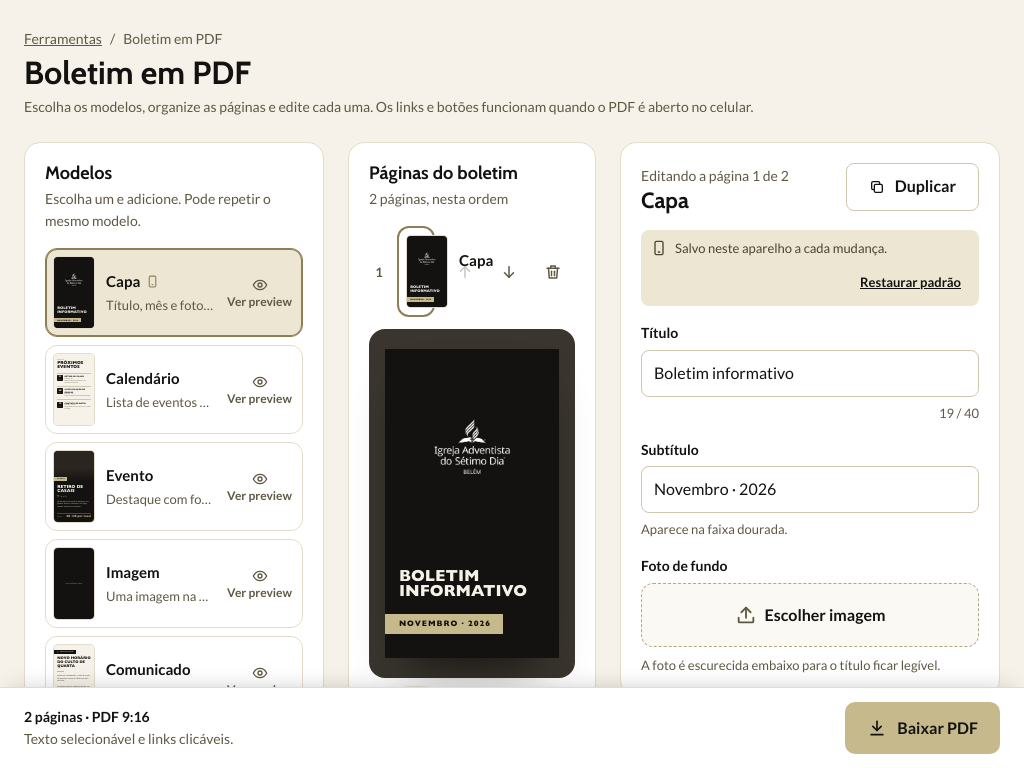
Test: BulletinEditor › shows a bigger preview of a model before adding it
The image size is (1024, 768).
Click the button with aria-label "Ver preview: Calendário" at point(260, 389), box top-left (221, 361), bottom-right (298, 417)
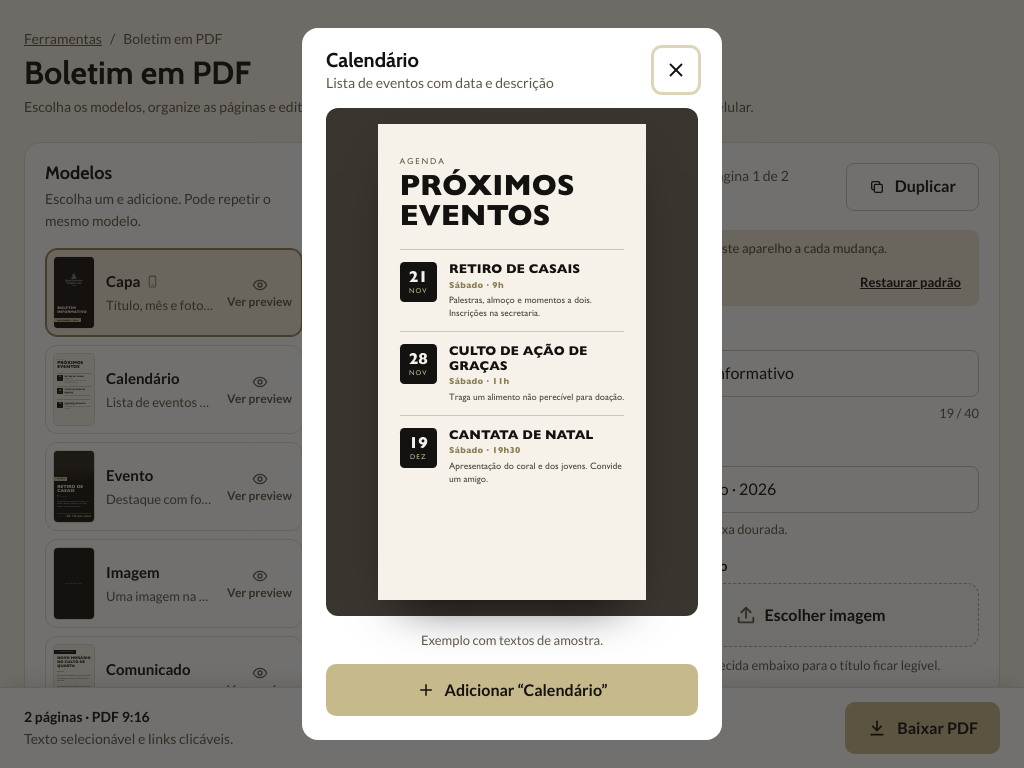
Expected: the text "Cantata de Natal" is shown, top-left (449, 427), bottom-right (593, 442)
Click the button "Adicionar “Calendário”" at point(512, 690), box top-left (326, 664), bottom-right (698, 716)
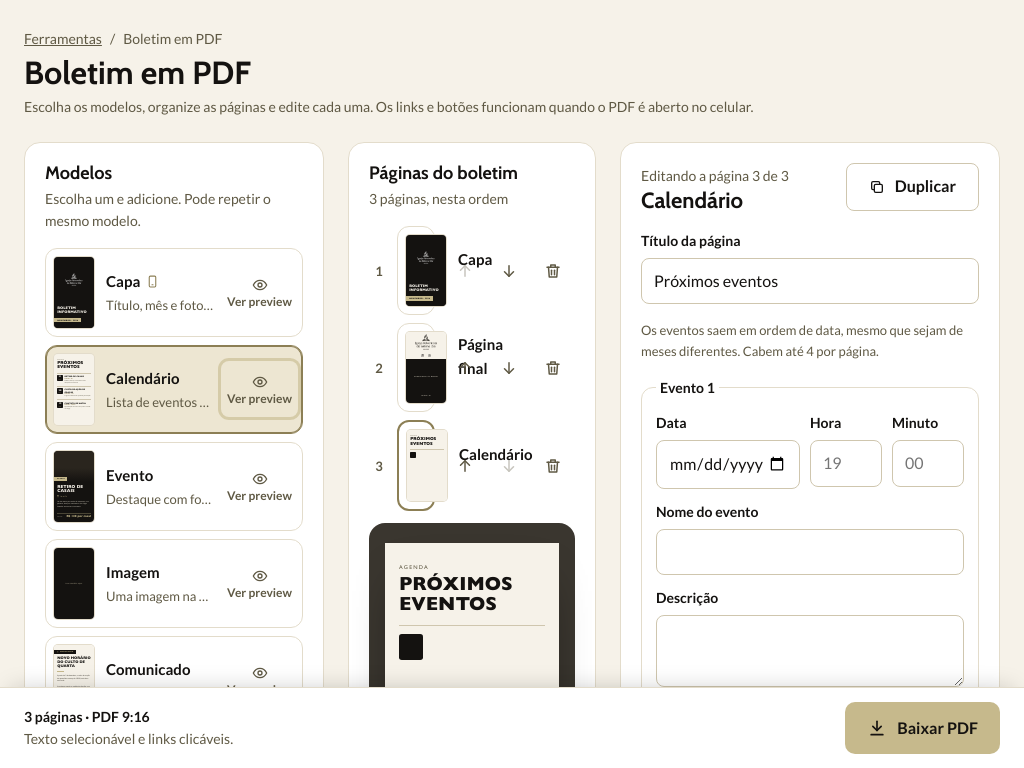
Expected: the dialog is gone
